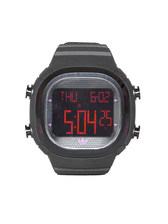watch: (21, 38, 146, 176)
